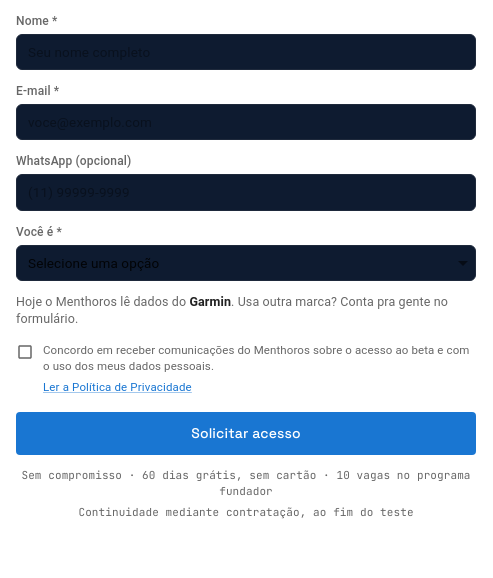
it: AccessRequestForm › não envia sem selecionar "Você é" nem aceitar a LGPD, e mostra os erros
This screenshot has width=493, height=578.
Type "Maria" into the field labelled "Nome" at (246, 52), box [17,35,475,69]
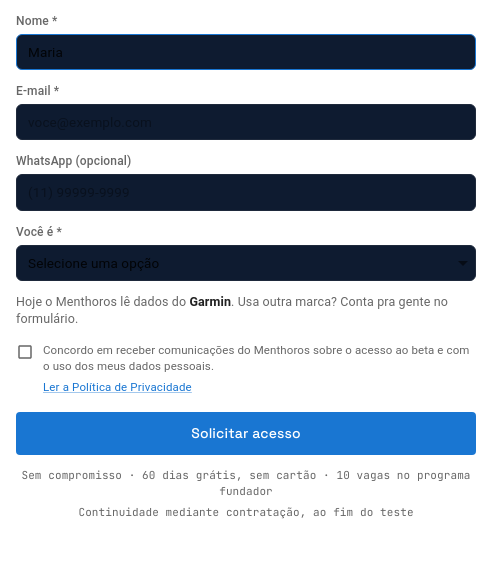
Type "maria@exemplo.com" into the field labelled "E-mail" at (246, 122), box [17,105,475,139]
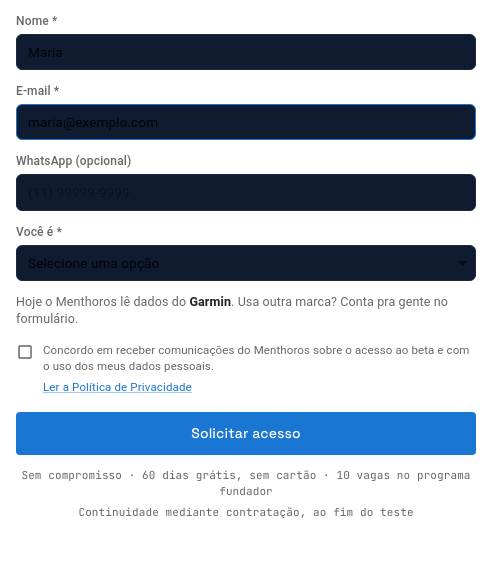
Click the button "Solicitar acesso" at (246, 434), box [16,412,476,455]
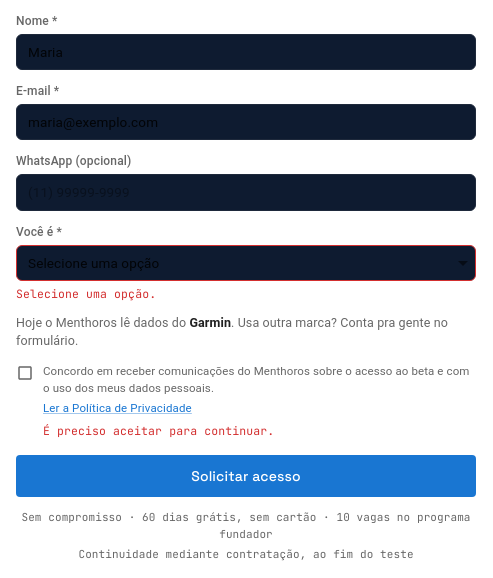
Expected: the text "Selecione uma opção." is shown, [16,286,156,301]
Expected: the text "É preciso aceitar para continuar." is shown, [43,423,274,438]
